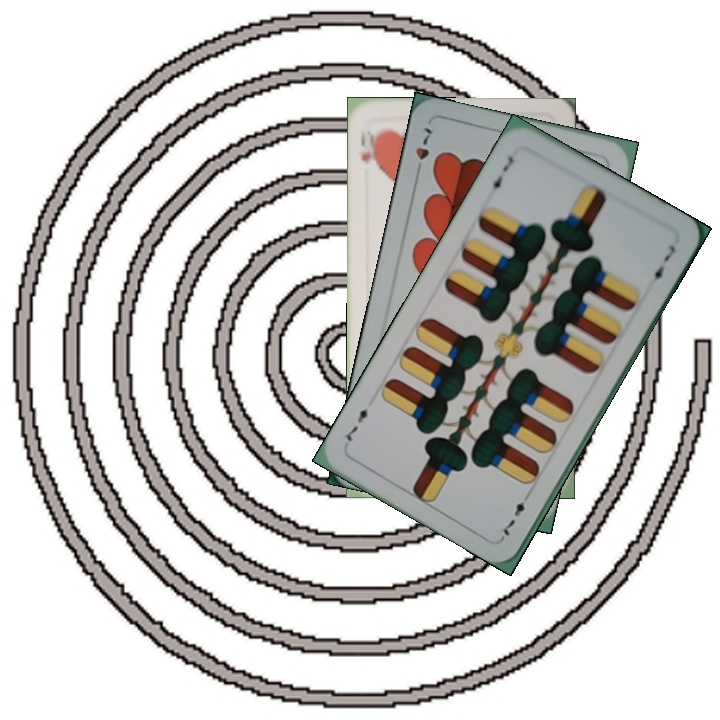E7: (497, 487, 534, 541), (484, 152, 516, 197)
H7: (411, 123, 435, 180)
HO: (357, 126, 381, 173)
